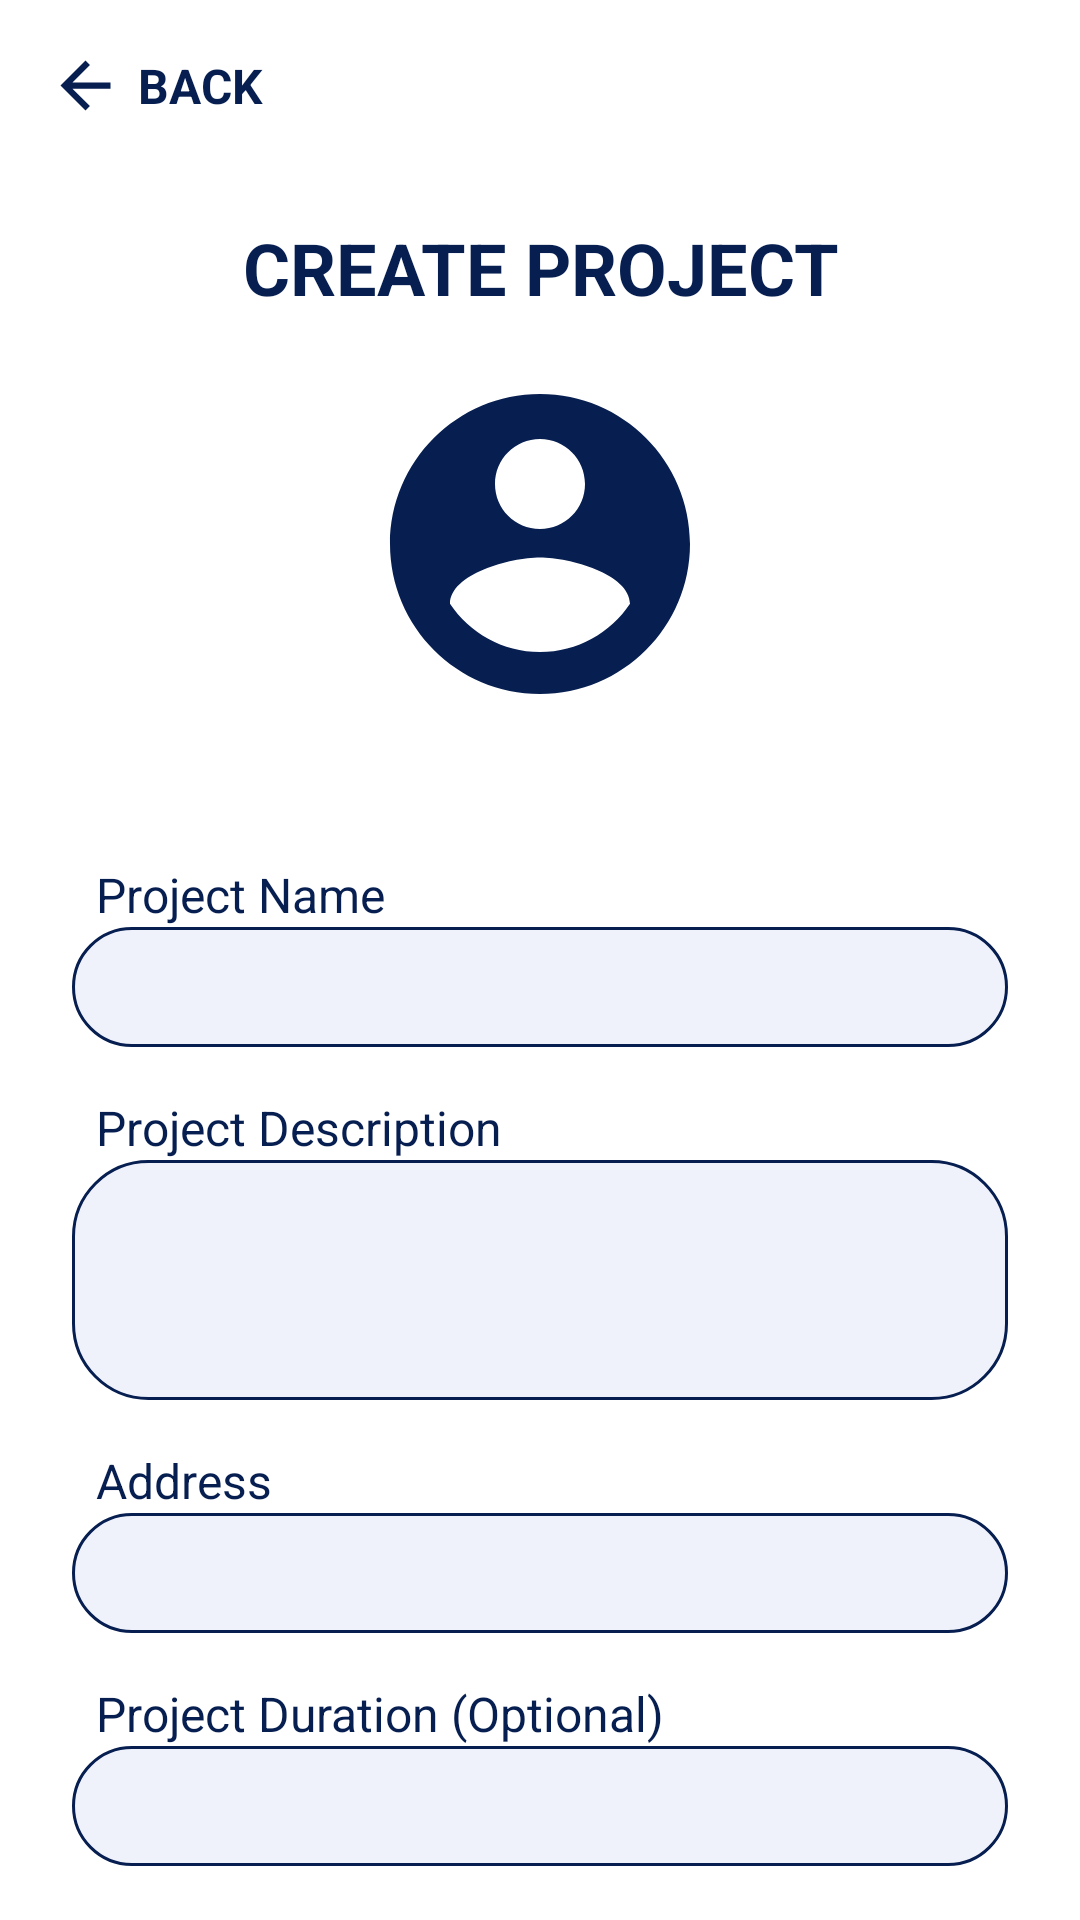

Locate icon controls on the screen. Image size 1080px×1920px, boxes as (x1, y1, x2, y2).
user: (390, 394, 690, 694)
